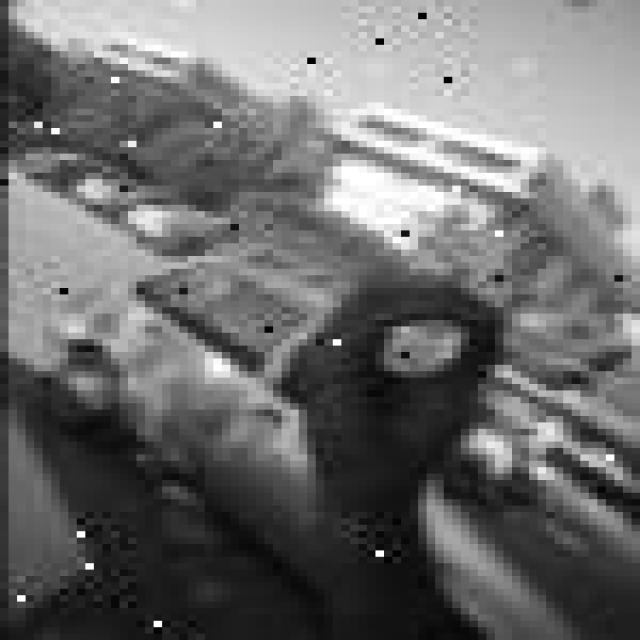O: (286, 262, 508, 512)
